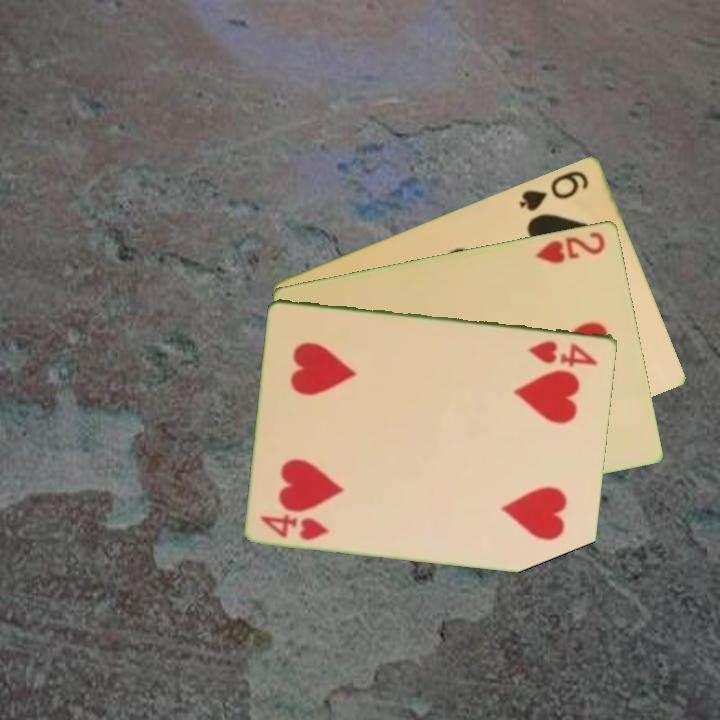2h: (532, 228, 609, 266)
4h: (257, 509, 333, 543), (526, 336, 601, 368)
6s: (516, 166, 592, 214)
